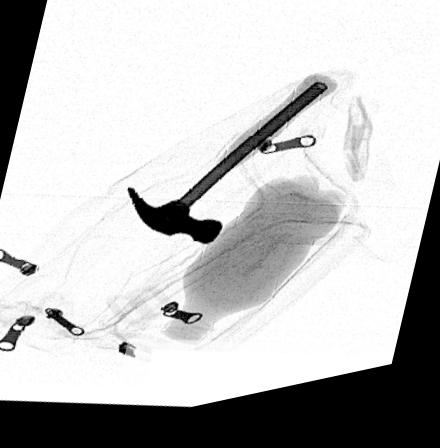Hammer: (124, 86, 338, 254)
